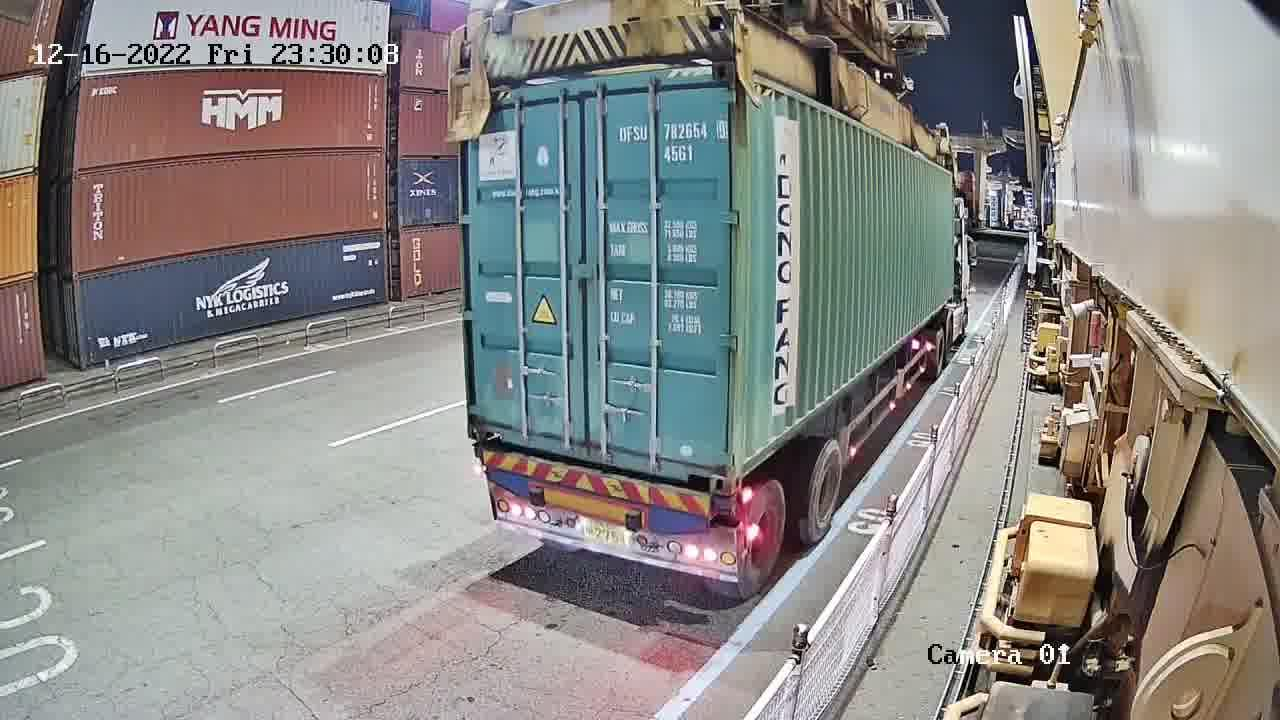Chassis: (475, 445, 736, 531)
Container: (466, 409, 733, 497)
Hole_L: (466, 407, 501, 444), (731, 445, 755, 495)
Hole_R: (692, 454, 732, 496)
Tire: (737, 484, 787, 594), (810, 445, 844, 542)
